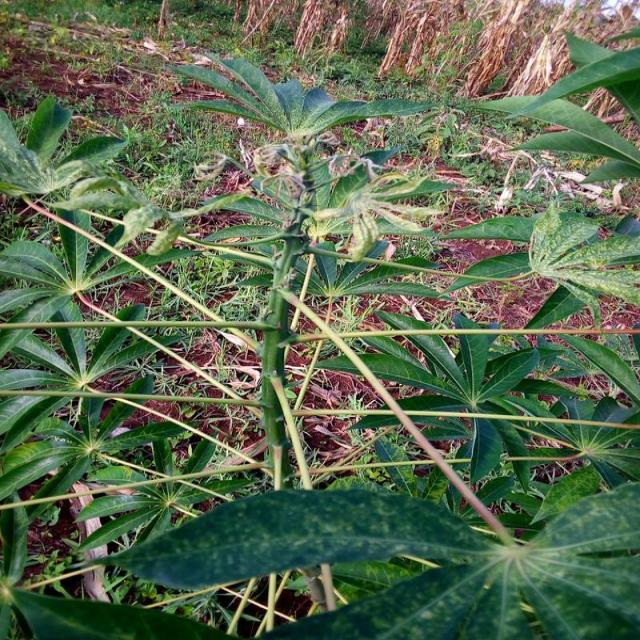cassava leaf: (101, 485, 499, 592)
